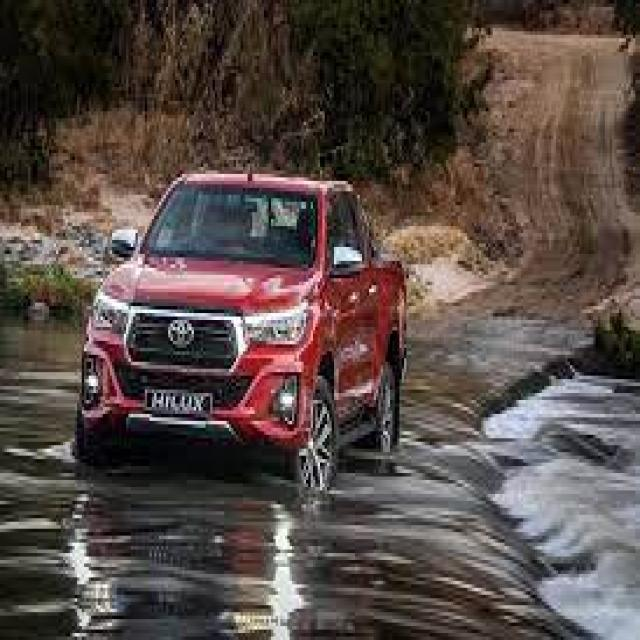Pickup Trucks: (80, 174, 411, 501)
